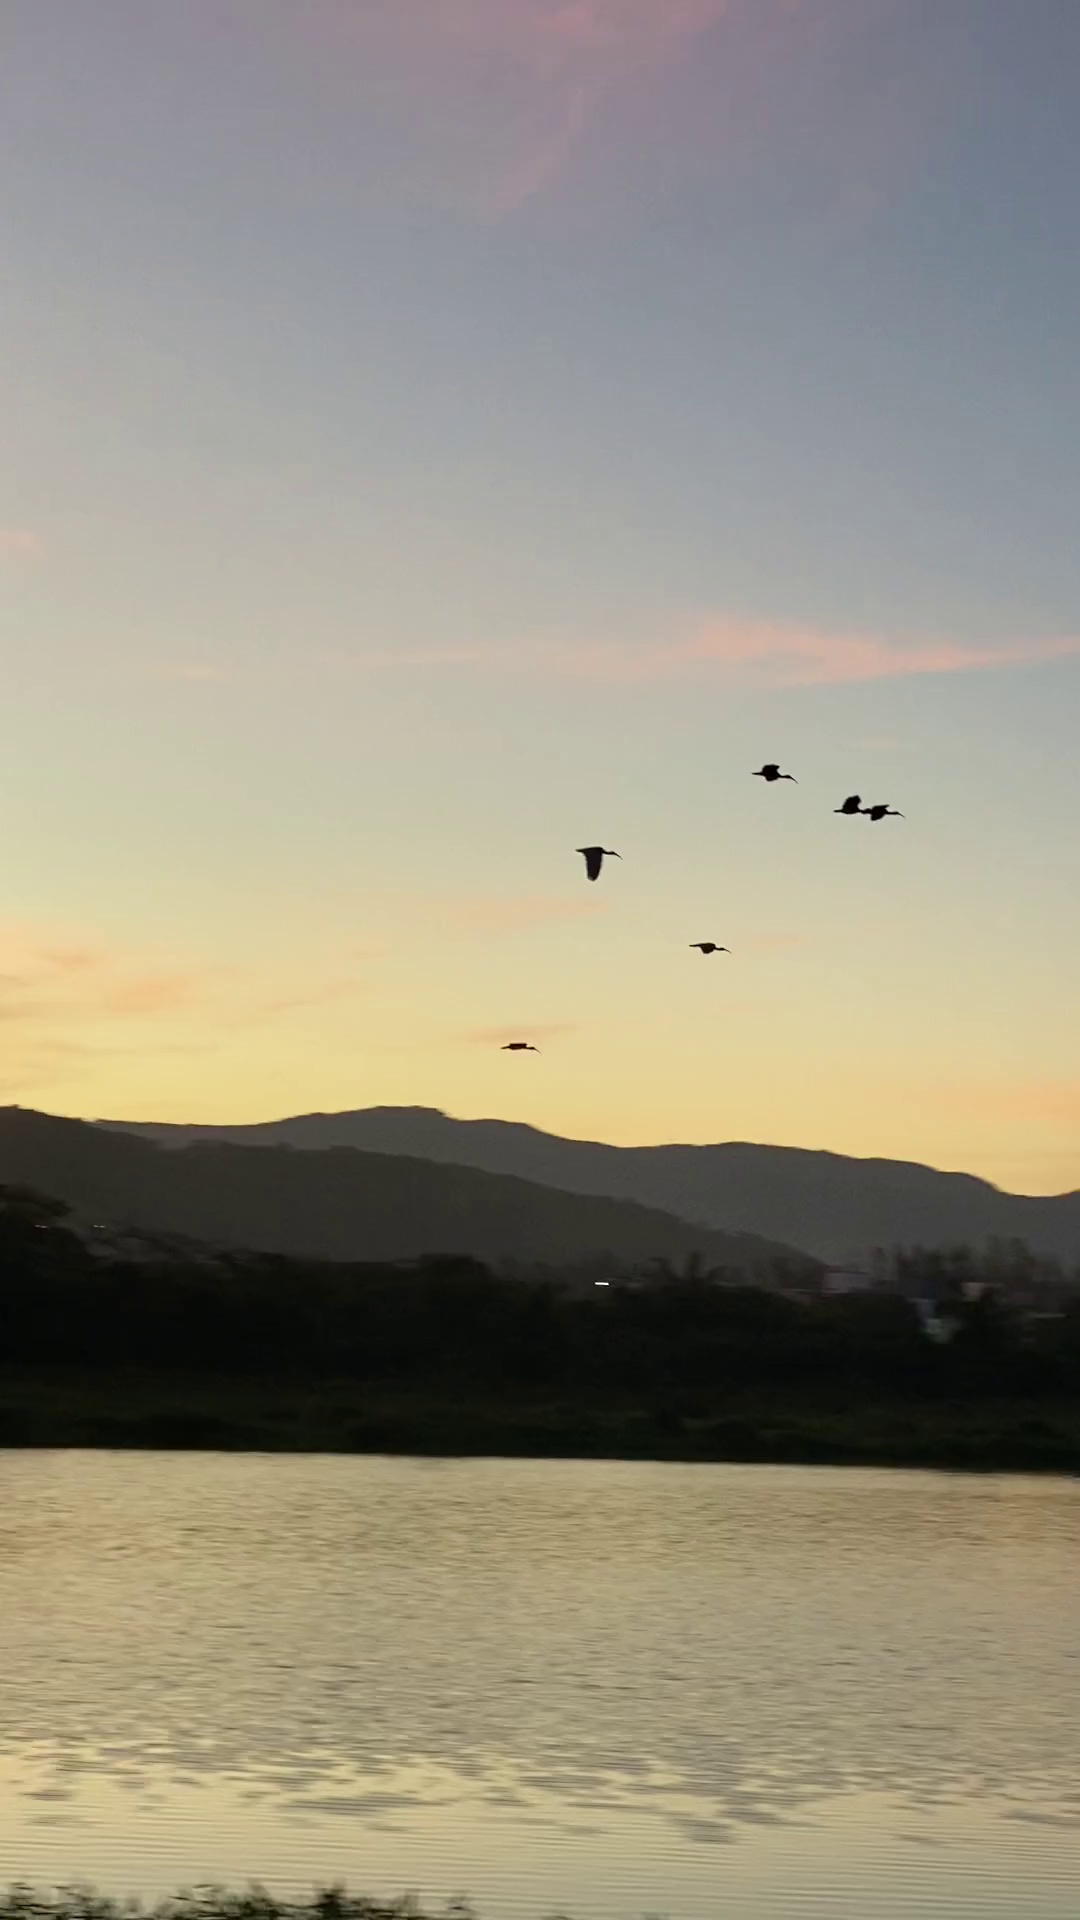bird: (578, 847, 620, 882), (753, 765, 798, 785), (862, 804, 903, 822), (835, 795, 868, 815), (690, 940, 731, 955), (502, 1042, 538, 1054)
